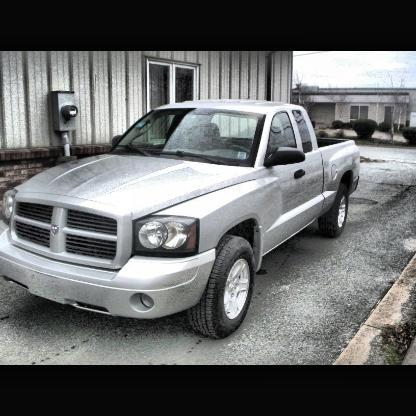Dodge Dakota Club Cab 2007: (2, 98, 365, 344)
